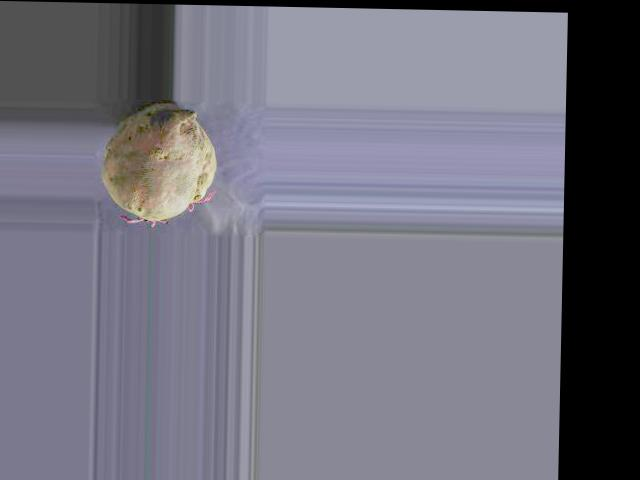beet: (101, 102, 218, 226)
